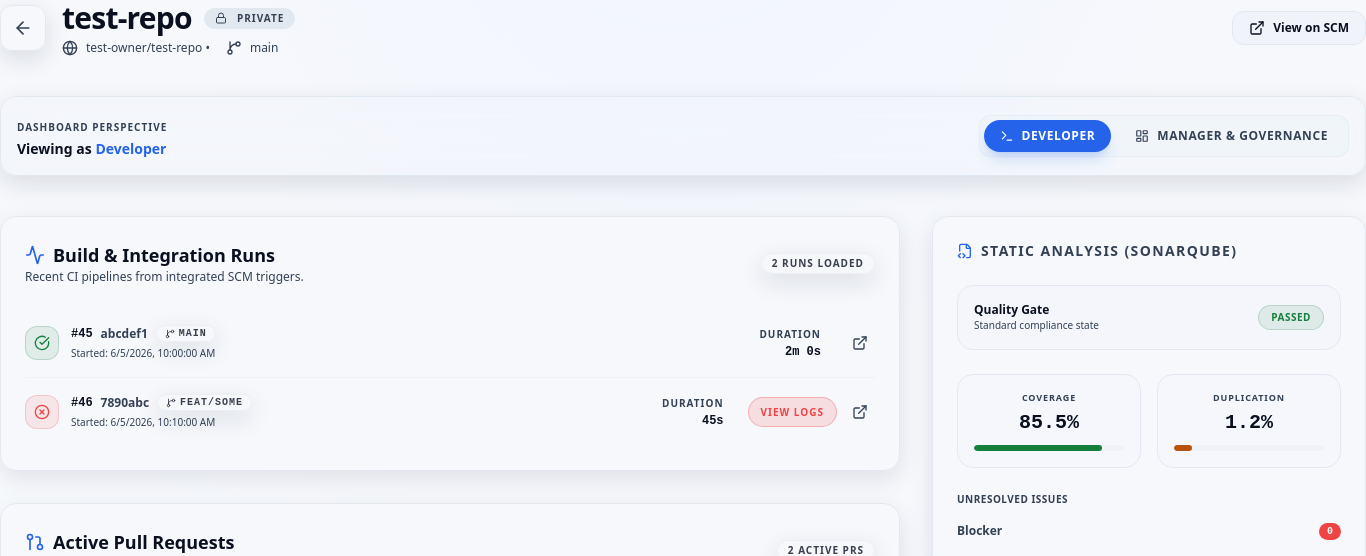
Test: RepositoryDashboardView › toggles view between Developer and Manager modes via subheader tabs
The width and height of the screenshot is (1366, 556).
Expected: the heading "Build & Integration Runs" is shown, [25,241,304,269]
What coordinates should you click on to do the following:
click the button "Manager & Governance"
I would click on:
 (1232, 136)
Its box is [1119,120,1344,152].
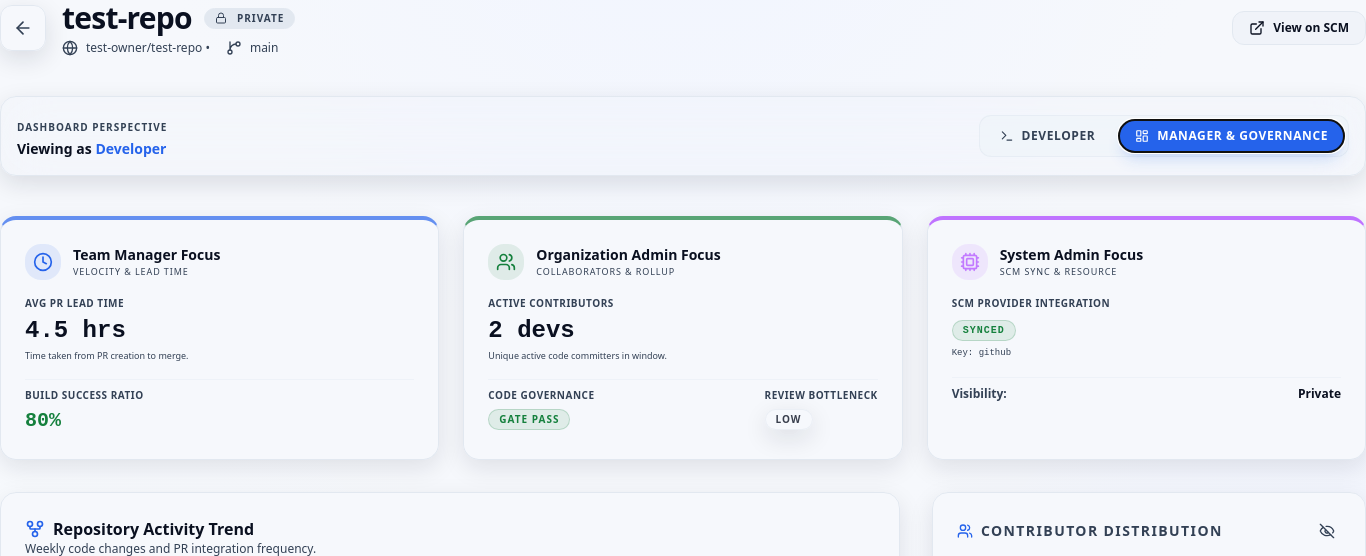
Expected: the heading "Team Manager Focus" is shown, [73,245,220,265]
Expected: the heading "Build & Integration Runs" is gone
What coordinates should you click on to do the following:
click the button "Developer"
I would click on:
 (1047, 136)
Its box is [984,120,1111,152].
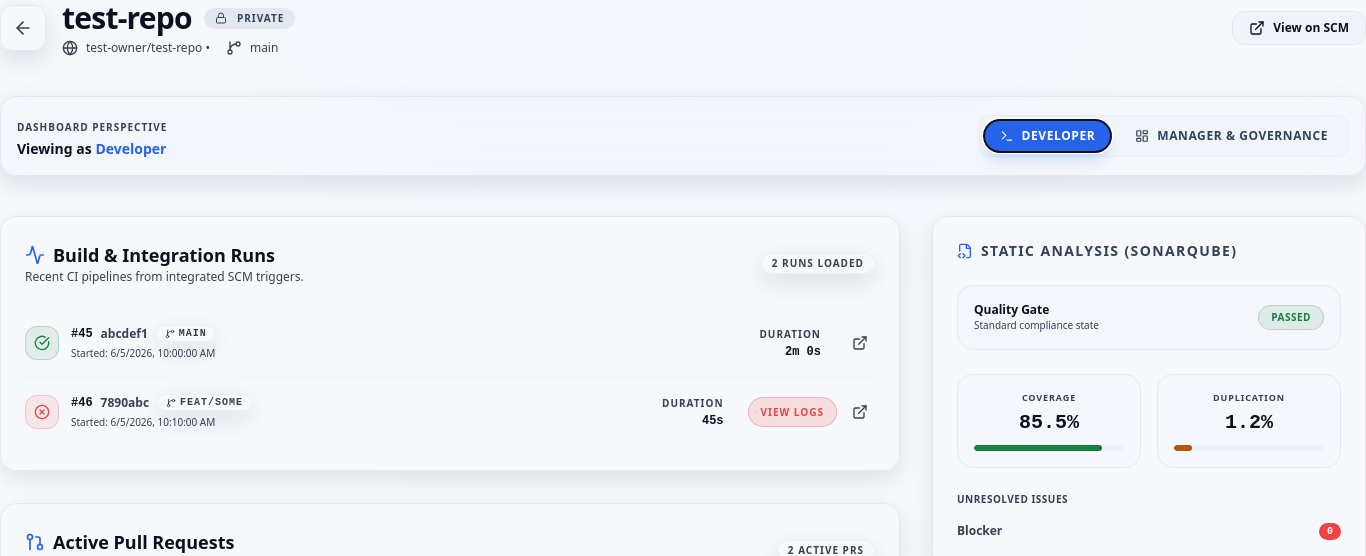
Expected: the heading "Build & Integration Runs" is shown, [25,241,304,269]
